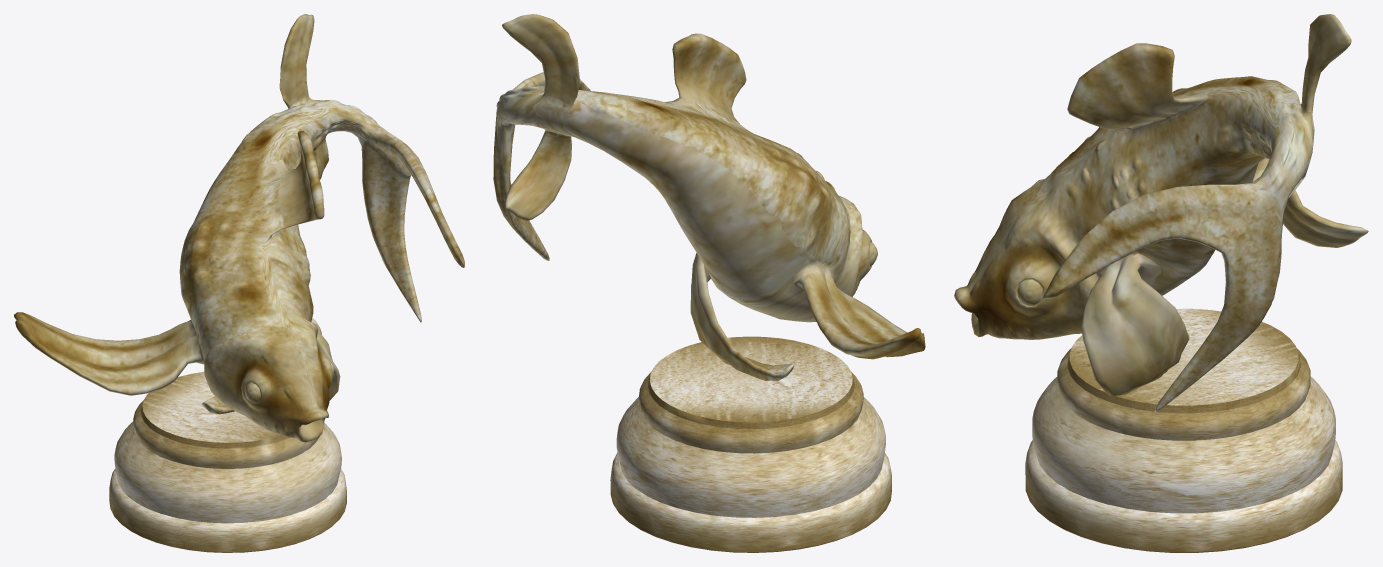
The model's file is ChessPawn.obj.
The picture shows the model from 3 angles, left to right: view 1: azimuth 30°, elevation 25°; view 2: azimuth 150°, elevation 25°; view 3: azimuth 270°, elevation 25°; orthographic projection. The views are drawn at different scales.
Visible parts, largest first — view 1: ChessPawn; view 2: ChessPawn; view 3: ChessPawn.
Boxes of the visible parts, x1,y1,x2,y2 form: ChessPawn: (14,14,464,552); ChessPawn: (493,14,925,552); ChessPawn: (954,14,1368,552).
Size of the model in its own units: 0.0652 by 0.0684 by 0.0463.
Materials: 2 (2 with a texture image).
